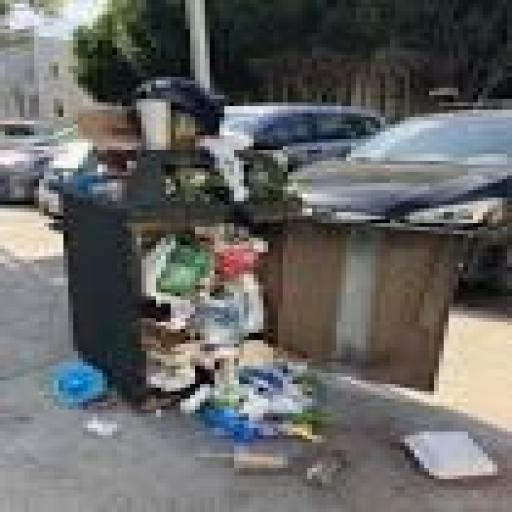poubelle_pleine: (34, 124, 300, 452)
